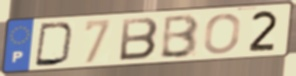2: (248, 9, 279, 52)
7: (82, 19, 115, 65)
B: (158, 13, 201, 60), (117, 16, 160, 63)
D: (33, 22, 77, 68)
O: (202, 12, 243, 56)
